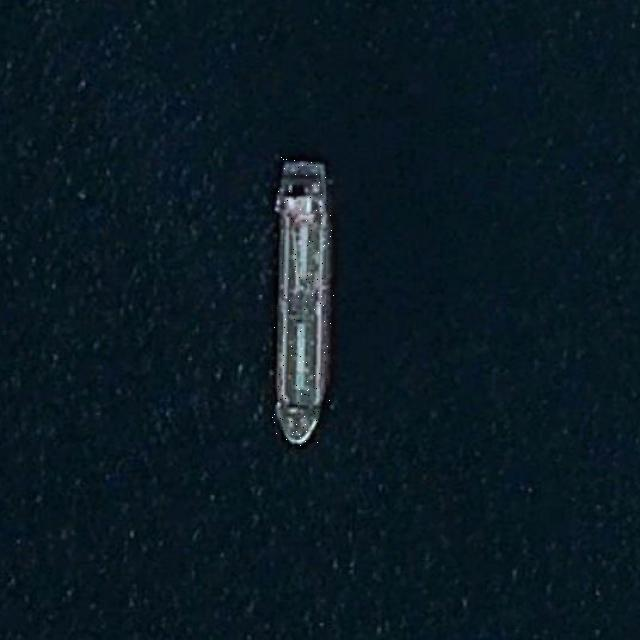boat: (271, 156, 334, 446)
